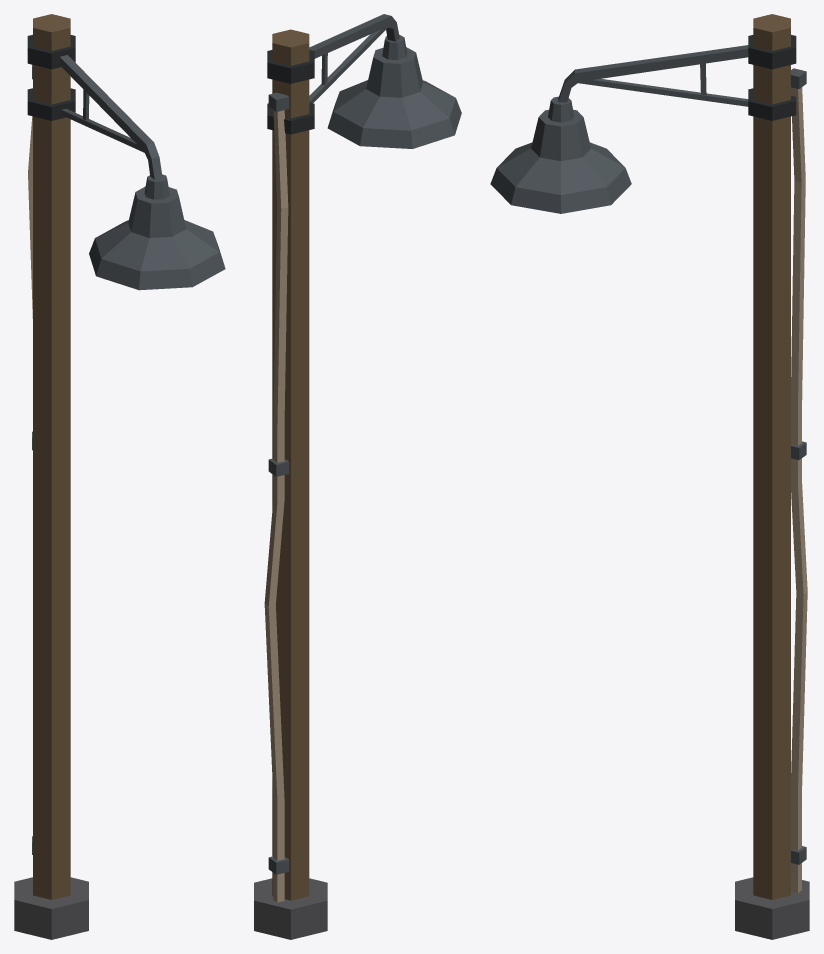
The model's file is SM_Prop_Light_Pole_01.obj.
3 views of the same model, side by side, from view 1: azimuth 30°, elevation 25°; view 2: azimuth 150°, elevation 25°; view 3: azimuth 270°, elevation 25° (orthographic).
Visible parts, largest first — view 1: SM_Prop_Light_Pole_01_0; view 2: SM_Prop_Light_Pole_01_0; view 3: SM_Prop_Light_Pole_01_0.
Boxes of the visible parts, x1=… form: SM_Prop_Light_Pole_01_0: x1=14, y1=14, x2=225, y2=939; SM_Prop_Light_Pole_01_0: x1=254, y1=14, x2=461, y2=939; SM_Prop_Light_Pole_01_0: x1=490, y1=14, x2=809, y2=939.
Bounding box in the file's own units: 0.5583 × 3.91 × 1.26.
Materials: 1 (1 with a texture image).
